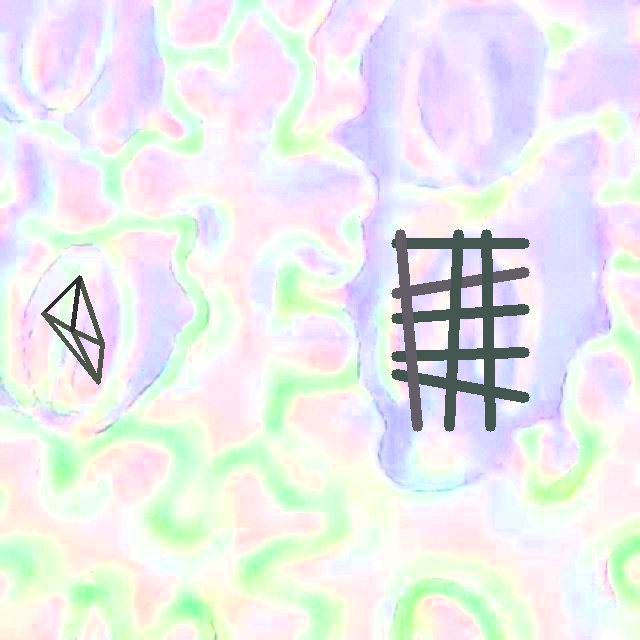close: (41, 275, 104, 384)
open: (392, 229, 528, 431)
